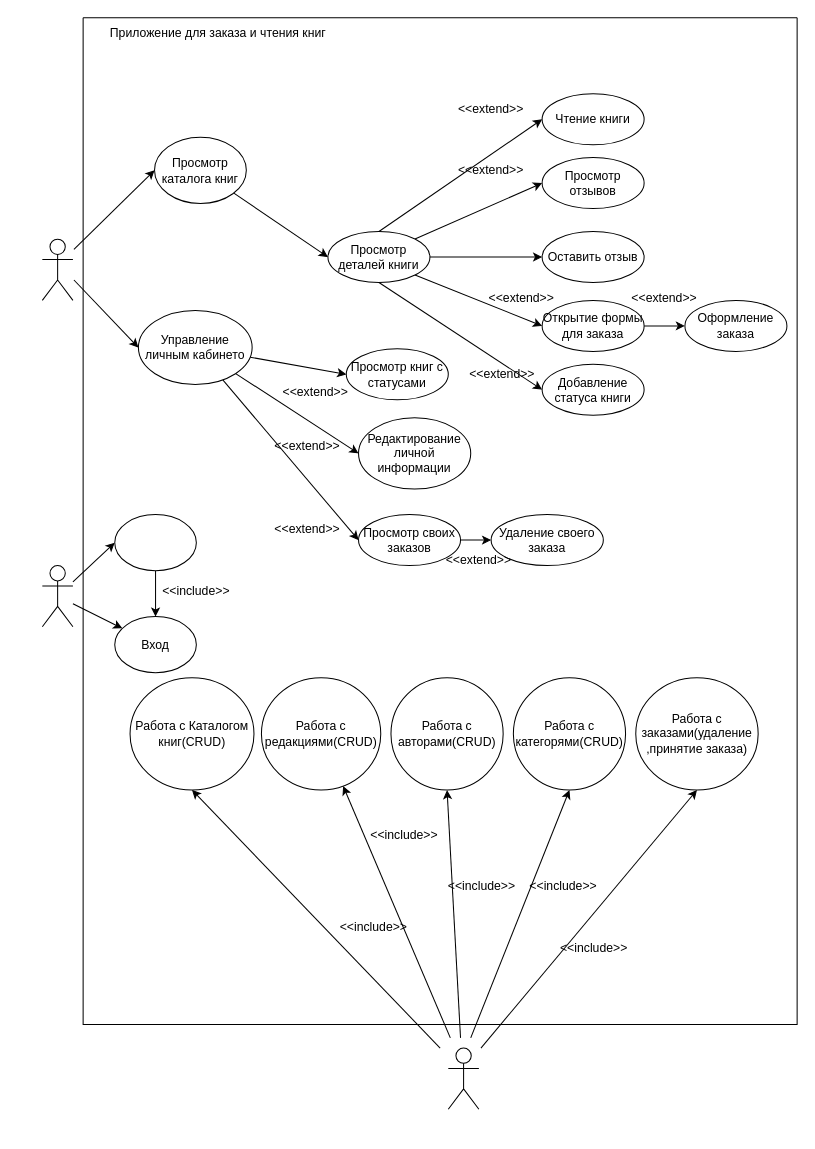
The diagram is 815 pixels wide and 1149 high, and some of its shapes have lost their labels. Each missing label, with the centre of its shape:
"Администратор" belongs at point (463, 1078).
"Гость" belongs at point (57, 596).
"Пользователь" belongs at point (57, 269).
"Регистрация" belongs at point (155, 542).
